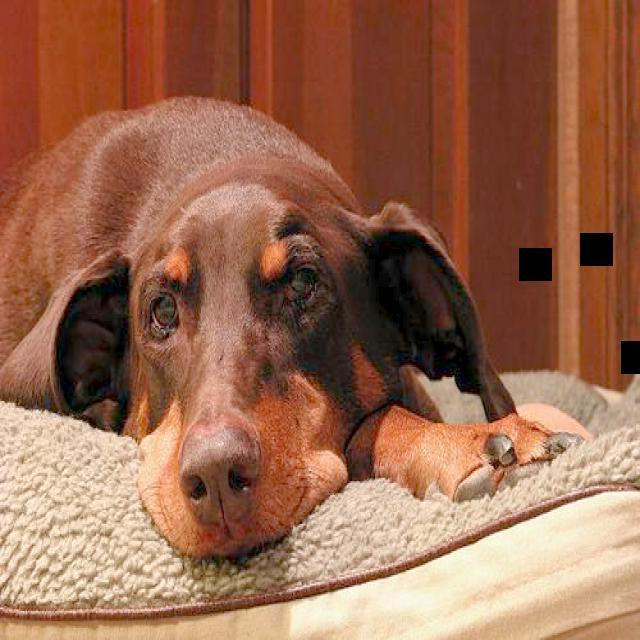adult_dog: (0, 95, 595, 563)
